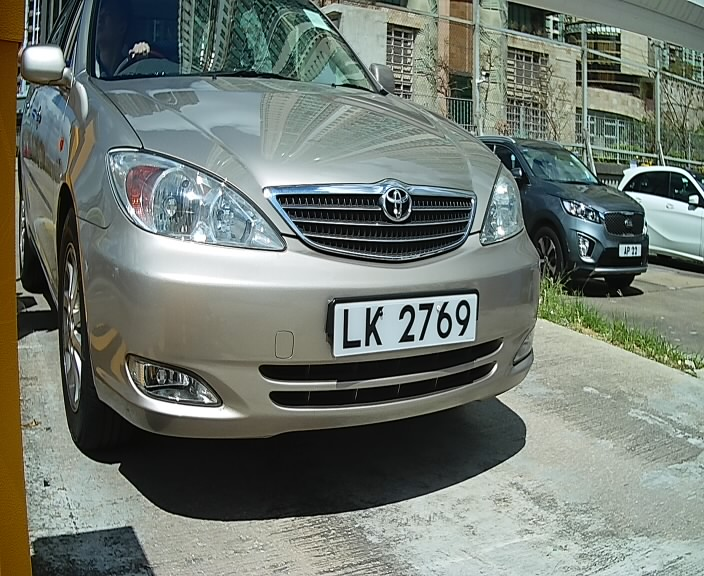Car: (9, 2, 557, 474)
License Plate: (317, 288, 489, 361)
